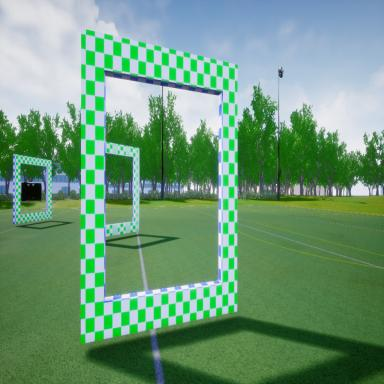gate: (76, 24, 241, 348), (11, 146, 54, 229)
